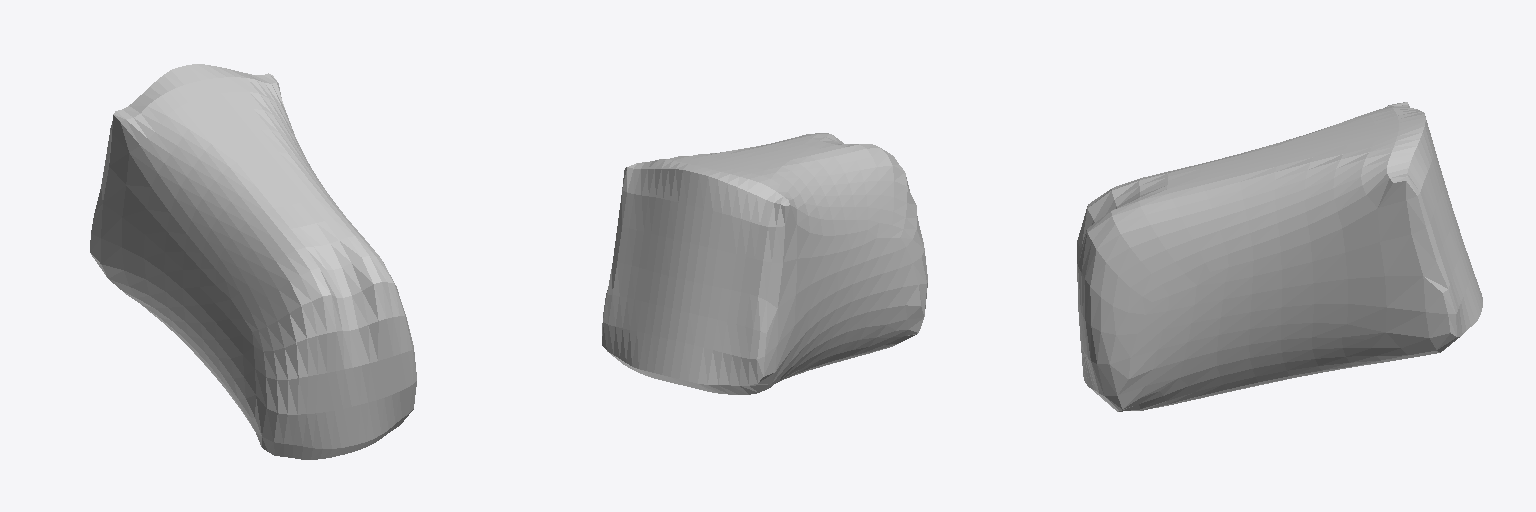
File: vertabrae33.obj
3 views of the same model, side by side, from view 1: azimuth 30°, elevation 25°; view 2: azimuth 150°, elevation 25°; view 3: azimuth 270°, elevation 25° (orthographic).
Parts seen in each view (by area): view 1: Cube.114_Cube.115; view 2: Cube.114_Cube.115; view 3: Cube.114_Cube.115.
Boxes of the visible parts, box(x1,y1,x2,y2) form: Cube.114_Cube.115: box(90, 64, 416, 459); Cube.114_Cube.115: box(602, 133, 927, 394); Cube.114_Cube.115: box(1077, 102, 1482, 411).
Size of the model in its own units: 0.0395 by 0.0627 by 0.0845.